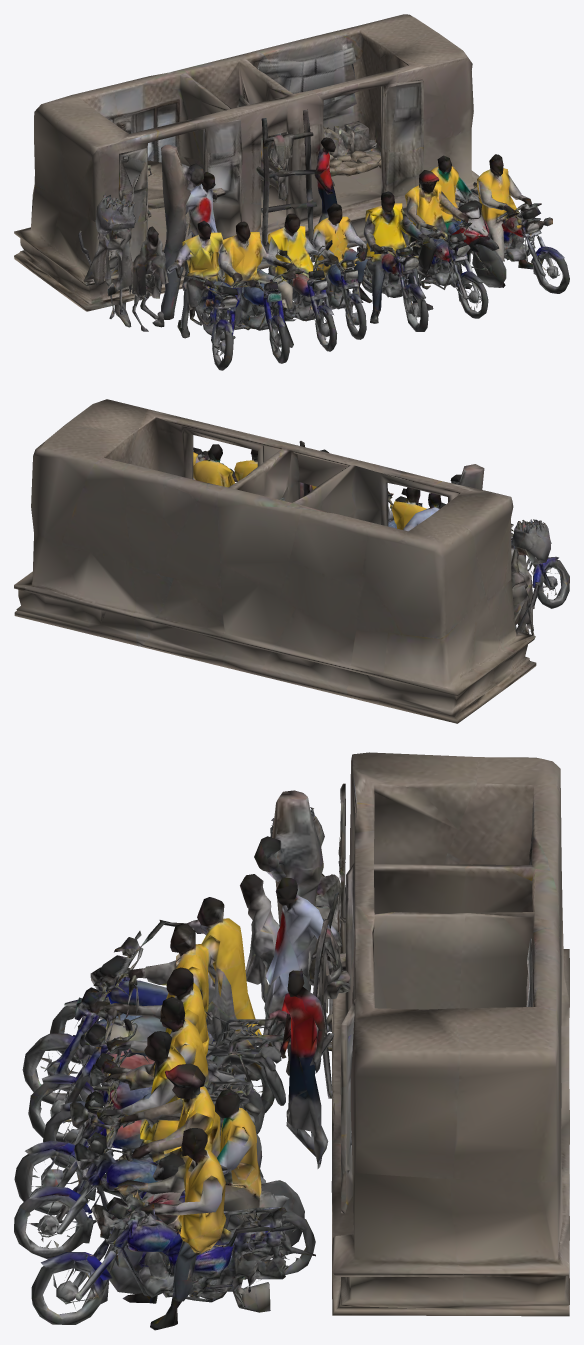
Rendered from zemidjans.glb.
The picture shows the model from 3 angles, top to bottom: view 1: azimuth 30°, elevation 25°; view 2: azimuth 150°, elevation 25°; view 3: azimuth 270°, elevation 25°; orthographic projection. The views are drawn at different scales.
Visible parts, largest first — view 1: mesh_node; view 2: mesh_node; view 3: mesh_node.
Boxes of the visible parts, x1=… form: mesh_node: x1=14, y1=14, x2=569, y2=370; mesh_node: x1=14, y1=399, x2=569, y2=723; mesh_node: x1=14, y1=752, x2=569, y2=1330.
Size of the model in its own units: 1.9 by 0.7617 by 1.36.
1 material, 1 textured.
